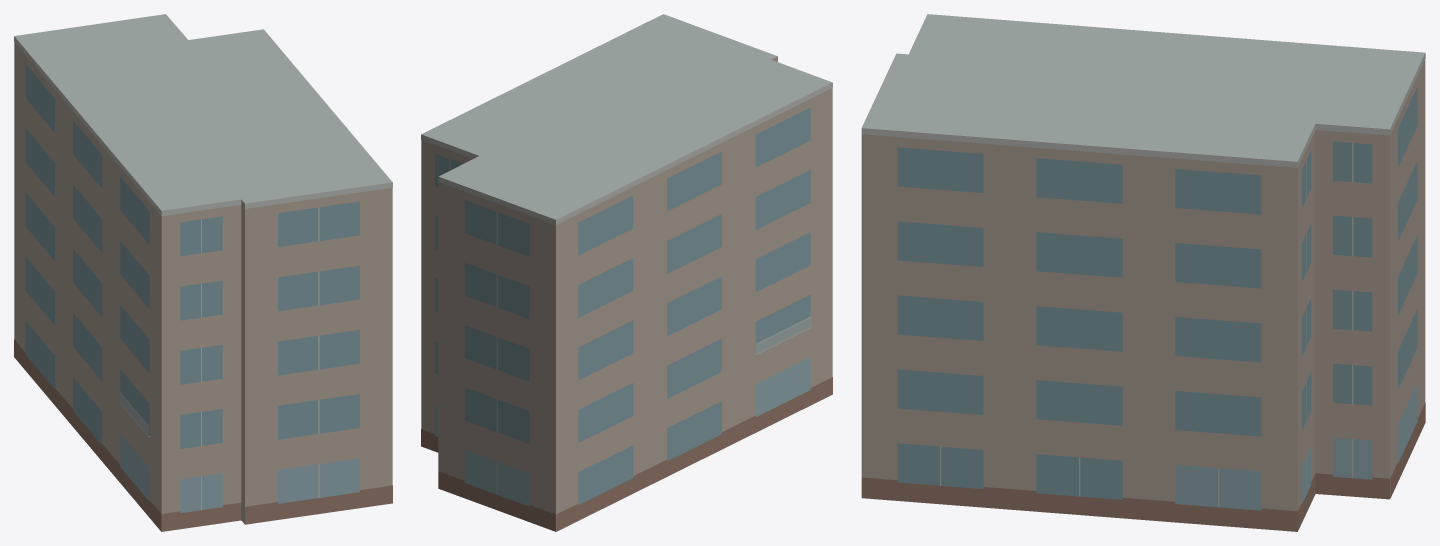
The model's file is survey-upis-33020033.glb.
3 views of the same model, side by side, from view 1: azimuth 30°, elevation 25°; view 2: azimuth 150°, elevation 25°; view 3: azimuth 270°, elevation 25° (orthographic). The views are drawn at different scales.
Visible parts, largest first — view 1: survey-upis-33020033.tmp; view 2: survey-upis-33020033.tmp; view 3: survey-upis-33020033.tmp.
Part boxes in pixels (x1=…): survey-upis-33020033.tmp: x1=14, y1=14, x2=392, y2=531; survey-upis-33020033.tmp: x1=421, y1=14, x2=832, y2=531; survey-upis-33020033.tmp: x1=861, y1=14, x2=1425, y2=531.
Size of the model in its own units: 12.61 by 14.7 by 20.31.
